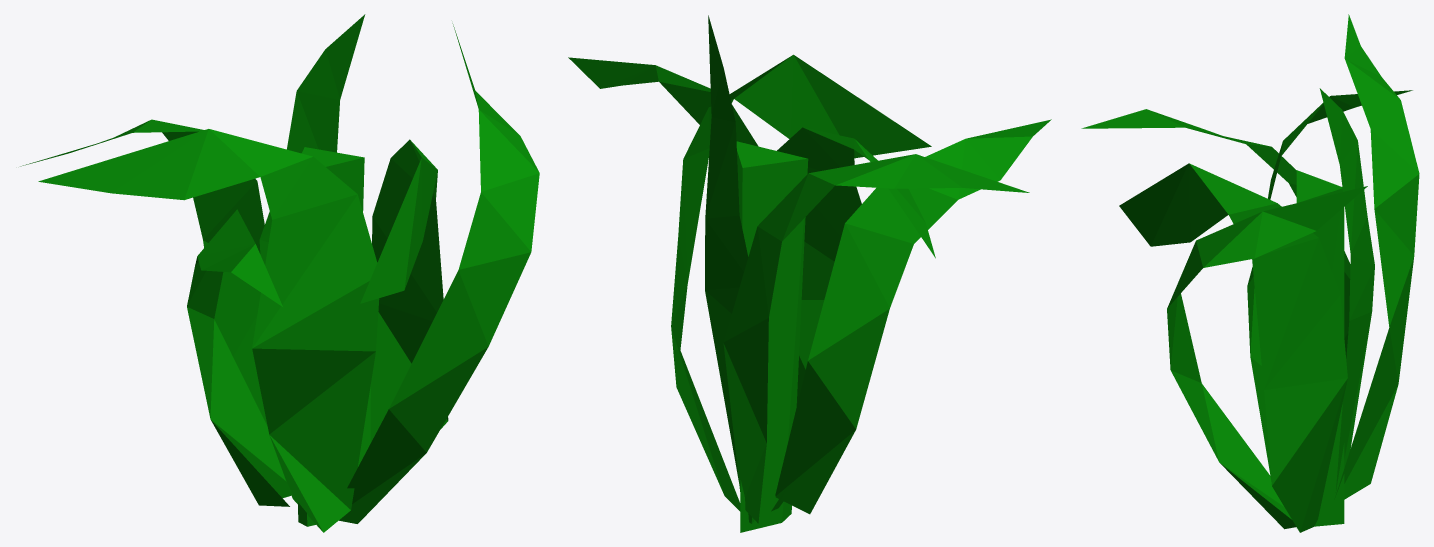
Rendered from Corn_0.fbx.
3 views of the same model, side by side, from view 1: azimuth 30°, elevation 25°; view 2: azimuth 150°, elevation 25°; view 3: azimuth 270°, elevation 25° (orthographic). The views are drawn at different scales.
Visible parts, largest first — view 1: Corn_0; view 2: Corn_0; view 3: Corn_0.
Boxes of the visible parts, x1=… form: Corn_0: x1=20, y1=14, x2=539, y2=532; Corn_0: x1=568, y1=15, x2=1051, y2=532; Corn_0: x1=1081, y1=14, x2=1419, y2=532.
Size of the model in its own units: 46.69 by 48.29 by 32.5.
